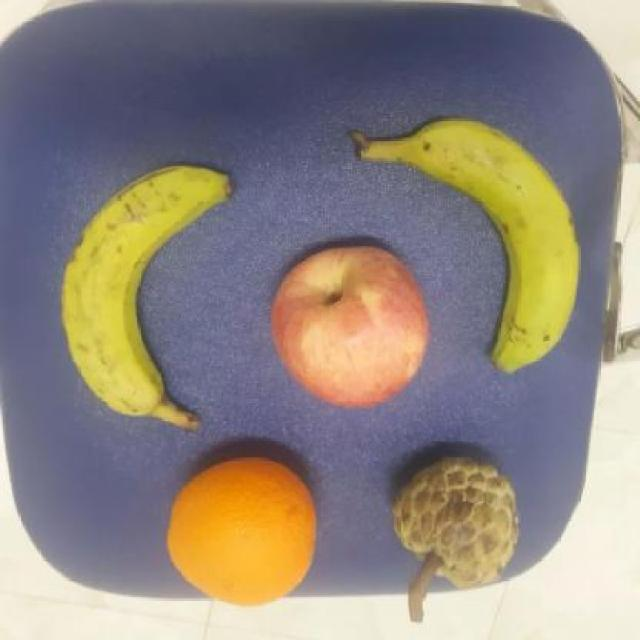apple: (267, 240, 430, 411)
banana: (355, 121, 583, 377), (56, 168, 236, 432)
oren: (168, 453, 320, 607)
sugar apple: (388, 457, 524, 588)
